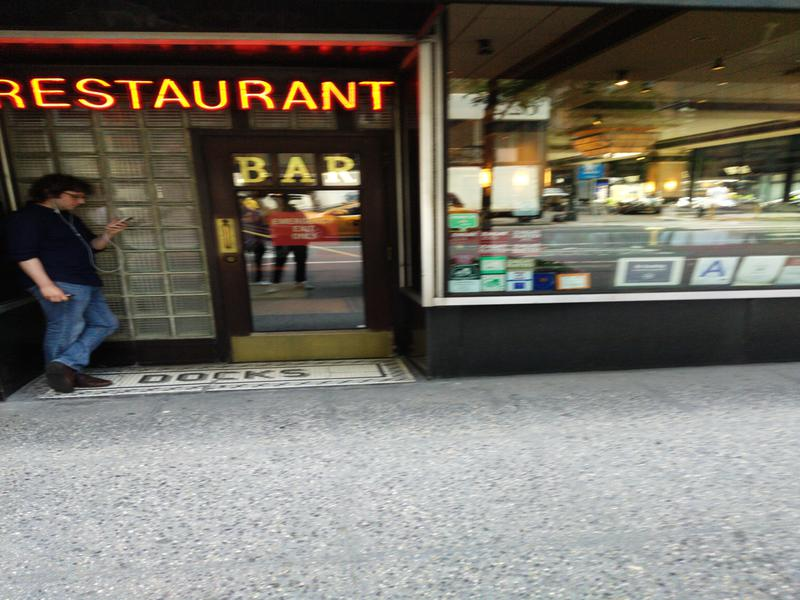door: (194, 130, 405, 371)
